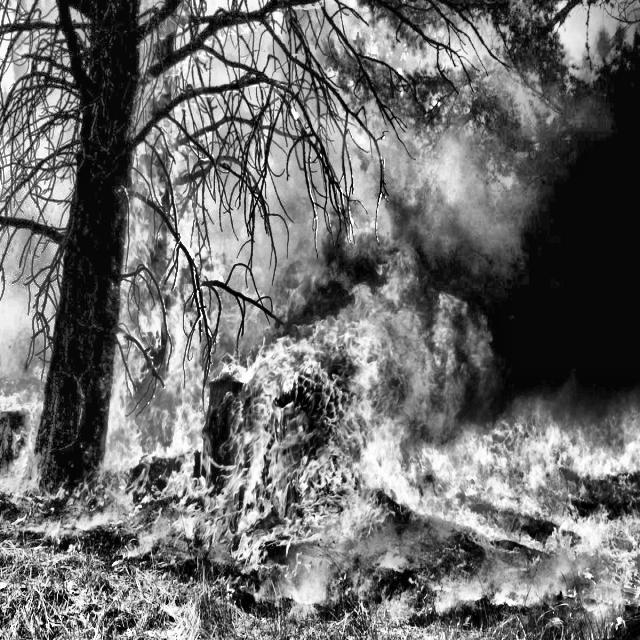fire: (13, 8, 638, 637)
